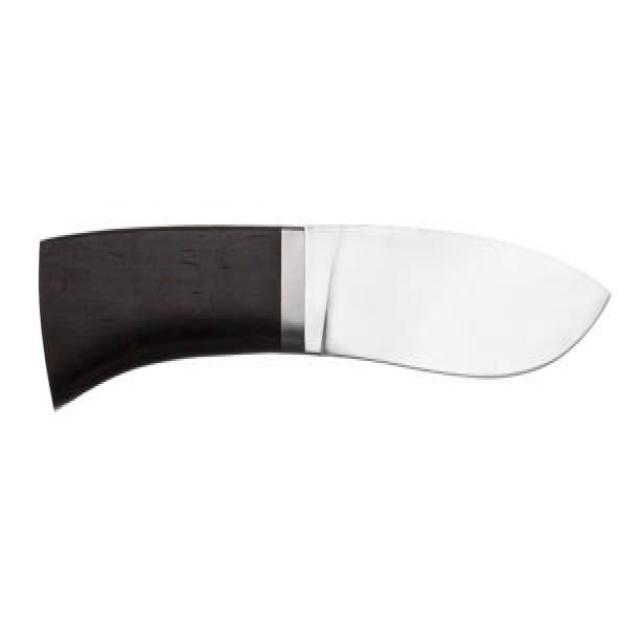knife: (33, 210, 618, 429)
